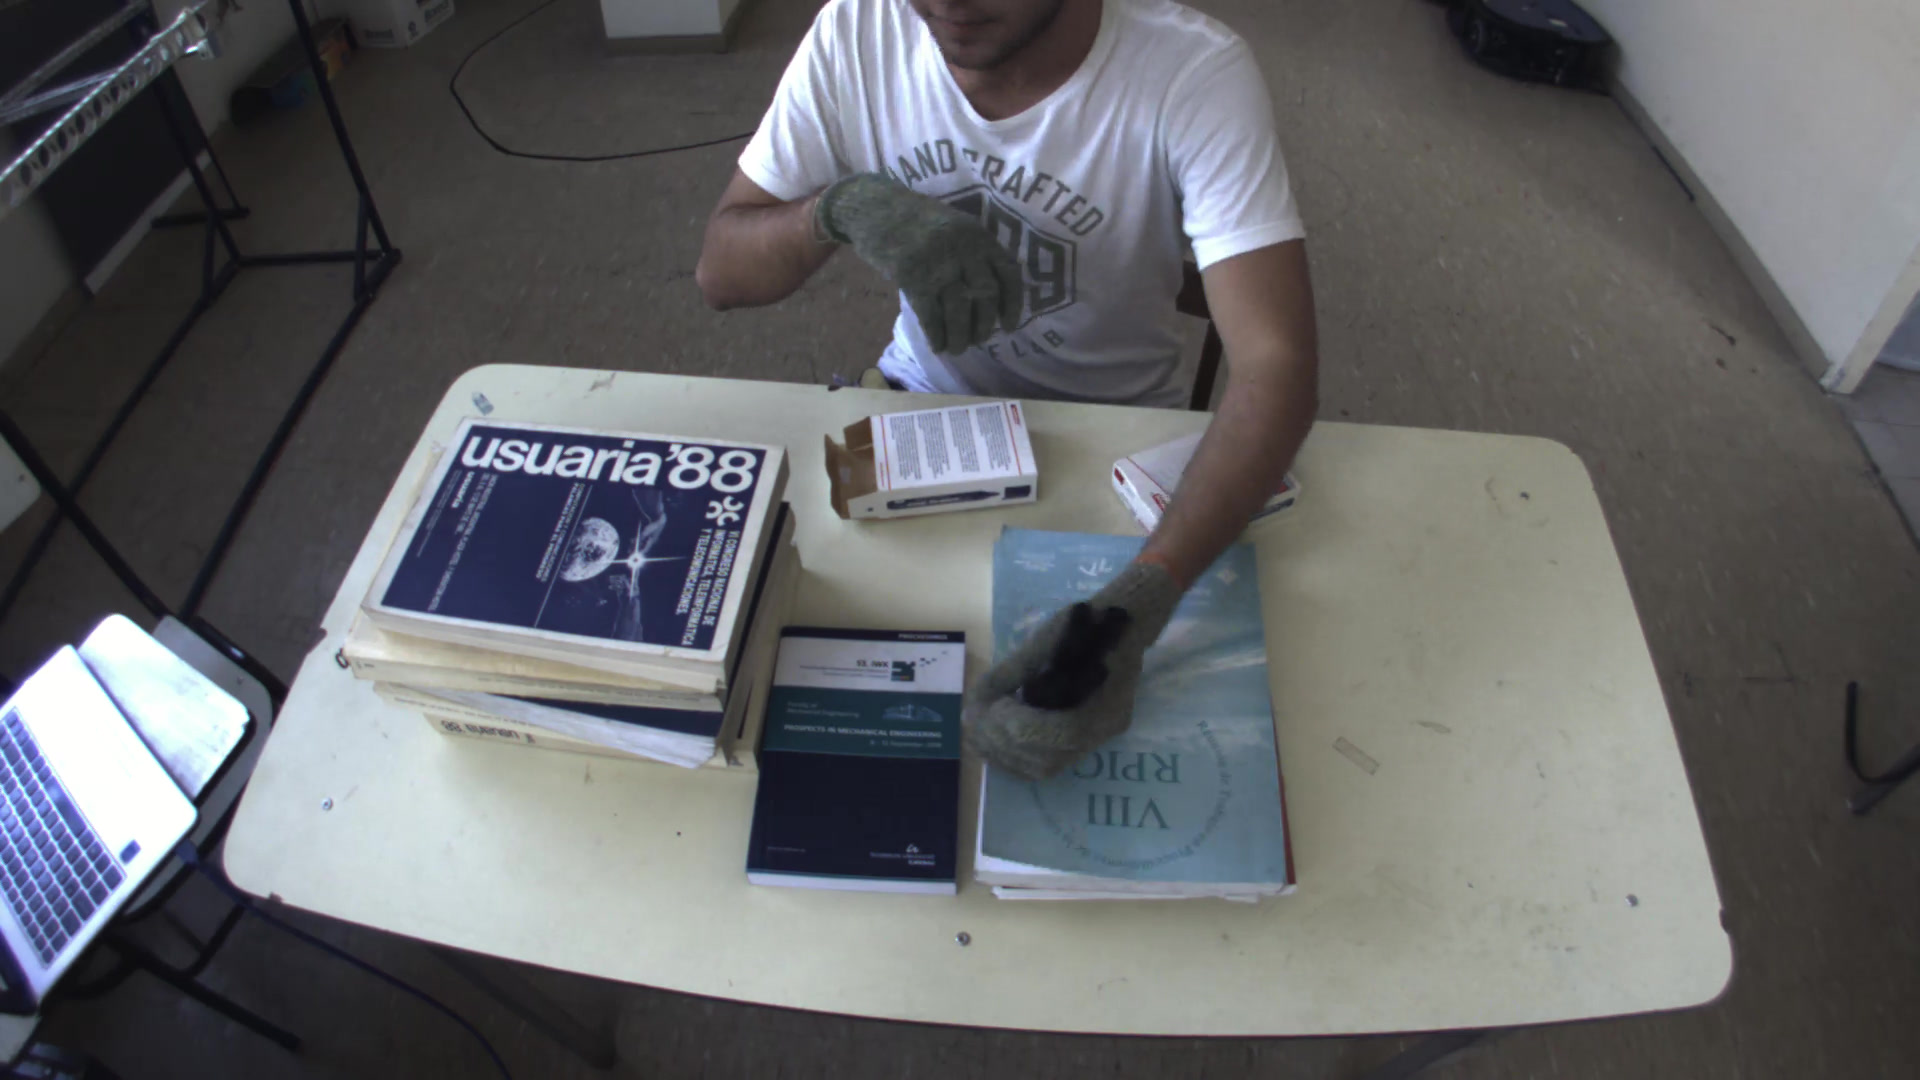hand: (945, 578, 1183, 791), (814, 171, 1029, 344)
